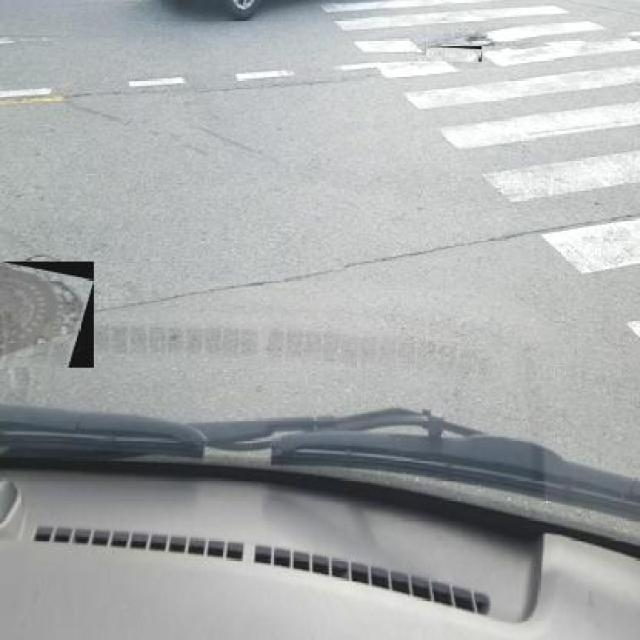Manhole: (0, 262, 94, 368), (426, 46, 482, 62)
Pothole: (466, 34, 496, 45)
